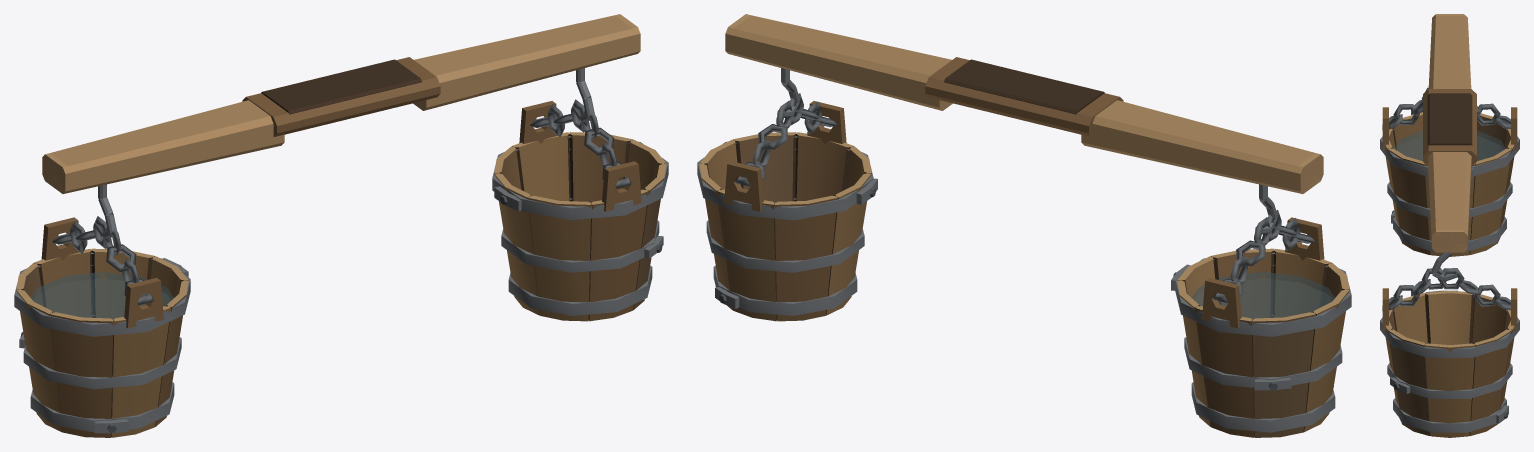
The model's file is SM_LPD_Crate_WaterYokeShoulder_01.fbx.
The picture shows the model from 3 angles, left to right: view 1: azimuth 30°, elevation 25°; view 2: azimuth 150°, elevation 25°; view 3: azimuth 270°, elevation 25°; orthographic projection. The views are drawn at different scales.
Parts seen in each view (by area): view 1: SM_LPD_Crate_WaterYokeShoulder_01; view 2: SM_LPD_Crate_WaterYokeShoulder_01; view 3: SM_LPD_Crate_WaterYokeShoulder_01.
Boxes of the visible parts, box(x1,y1,x2,y2) form: SM_LPD_Crate_WaterYokeShoulder_01: box(14, 14, 668, 437); SM_LPD_Crate_WaterYokeShoulder_01: box(697, 14, 1351, 437); SM_LPD_Crate_WaterYokeShoulder_01: box(1380, 14, 1519, 437).
Bounding box in the file's own units: 1.42 × 0.576 × 0.353.
